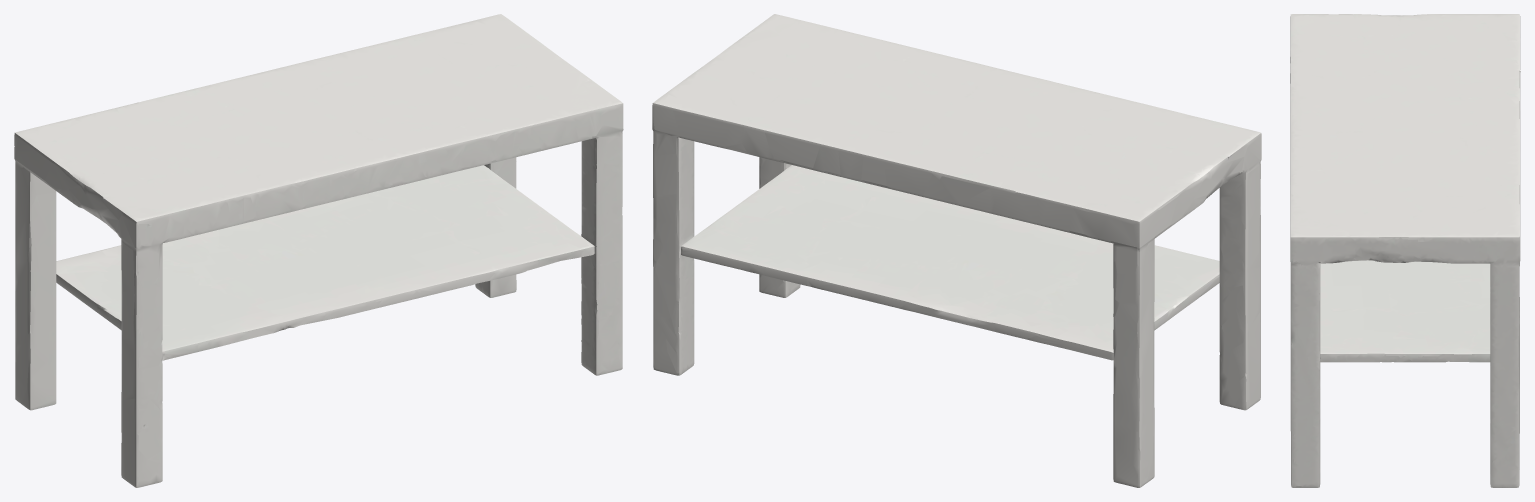
Rendered from ikea-com-us-en-p-lack-tv-unit-white-90631400-ae2696.glb.
3 renders of one model, left to right at view 1: azimuth 30°, elevation 25°; view 2: azimuth 150°, elevation 25°; view 3: azimuth 270°, elevation 25°, orthographic. The views are drawn at different scales.
Parts seen in each view (by area): view 1: Mesh_0; view 2: Mesh_0; view 3: Mesh_0.
Boxes of the visible parts, <box> form: Mesh_0: <box>14,14,623,487</box>; Mesh_0: <box>652,14,1261,487</box>; Mesh_0: <box>1290,14,1520,487</box>.
Bounding box in the file's own units: 1.9 × 0.9982 × 0.8285.
1 material, 1 textured.
